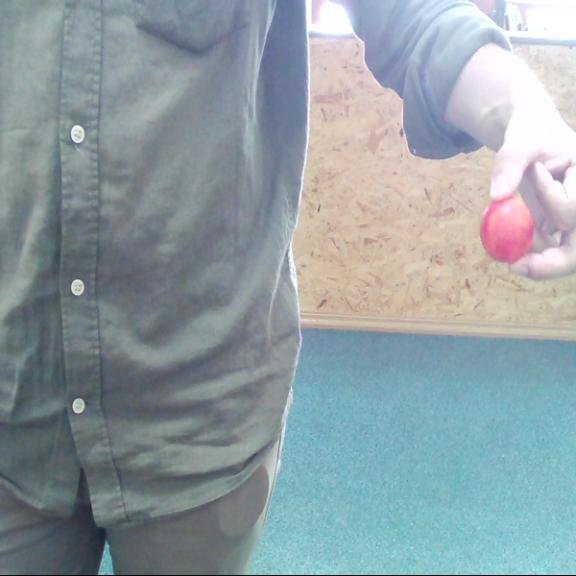ball: (478, 194, 536, 262)
